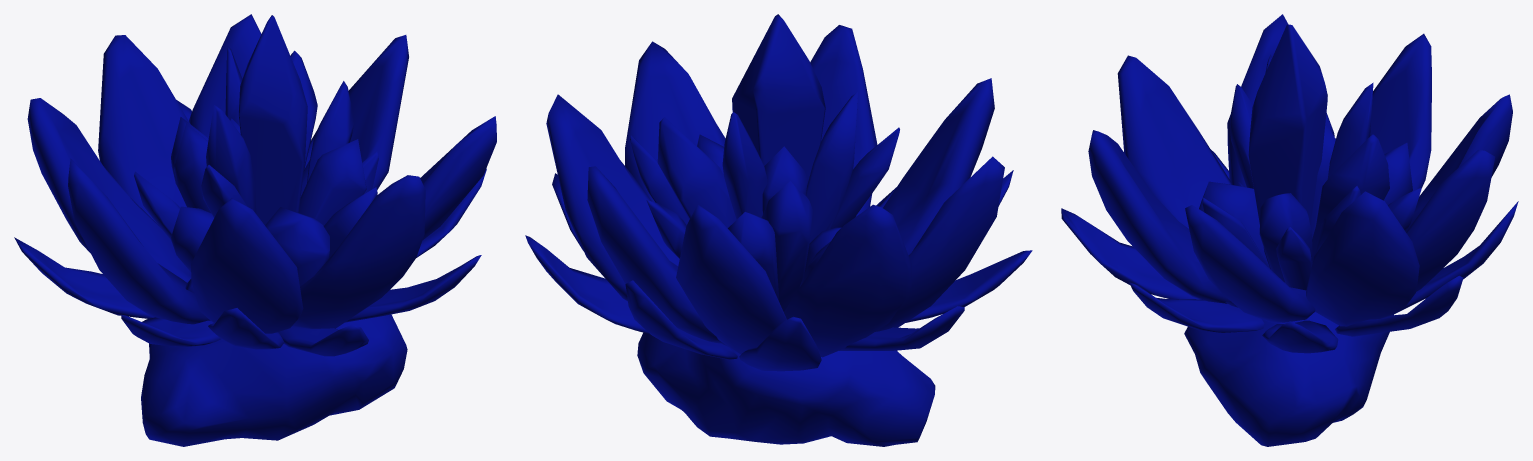
3 renders of one model, left to right at view 1: azimuth 30°, elevation 25°; view 2: azimuth 150°, elevation 25°; view 3: azimuth 270°, elevation 25°, orthographic. The views are drawn at different scales.
Visible parts, largest first — view 1: Sandrock_low, Petal3_low, Petal7_low, Petal4_low, Crystal1_low, Petal5_low, Petal6_low, Petal1_low, Petal2_low, Crystal7_low, Petal14_low, Petal8_low (+15 smaller); view 2: Sandrock_low, Petal6_low, Petal7_low, Crystal1_low, Petal1_low, Petal4_low, Petal5_low, Petal8_low, Petal2_low, Petal3_low, Crystal4_low, Crystal2_low (+14 smaller); view 3: Sandrock_low, Crystal1_low, Petal1_low, Petal4_low, Petal3_low, Petal2_low, Petal6_low, Petal8_low, Petal11_low, Crystal4_low, Petal7_low, Petal10_low (+14 smaller).
Part boxes in pixels (x1,y1,x2,y2): Sandrock_low: [141, 314, 407, 446]; Petal3_low: [292, 175, 425, 328]; Petal7_low: [98, 35, 190, 223]; Petal4_low: [191, 198, 303, 333]; Crystal1_low: [238, 15, 307, 224]; Petal5_low: [68, 158, 209, 324]; Petal6_low: [27, 98, 191, 282]; Petal1_low: [300, 35, 408, 196]; Petal2_low: [420, 116, 496, 240]; Crystal7_low: [299, 139, 366, 226]; Petal14_low: [14, 237, 152, 318]; Petal8_low: [189, 14, 261, 138]; Sandrock_low: [637, 332, 935, 446]; Petal6_low: [784, 204, 911, 357]; Petal7_low: [676, 204, 786, 353]; Crystal1_low: [732, 14, 825, 180]; Petal1_low: [546, 94, 679, 301]; Petal4_low: [883, 78, 994, 255]; Petal5_low: [875, 156, 1004, 331]; Petal8_low: [587, 166, 723, 343]; Petal2_low: [625, 41, 725, 202]; Petal3_low: [810, 25, 877, 216]; Crystal4_low: [657, 117, 736, 228]; Crystal2_low: [805, 92, 857, 242]; Sandrock_low: [1184, 312, 1393, 446]; Crystal1_low: [1248, 24, 1327, 269]; Petal1_low: [1306, 191, 1419, 326]; Petal4_low: [1117, 55, 1232, 228]; Petal3_low: [1088, 130, 1229, 303]; Petal2_low: [1185, 205, 1315, 322]; Petal6_low: [1370, 33, 1431, 191]; Petal8_low: [1406, 150, 1495, 291]; Petal11_low: [1061, 208, 1199, 299]; Crystal4_low: [1312, 134, 1389, 257]; Petal7_low: [1405, 94, 1512, 232]; Petal10_low: [1129, 282, 1264, 332].
Bounding box in the file's own units: 169 × 145 × 162.
